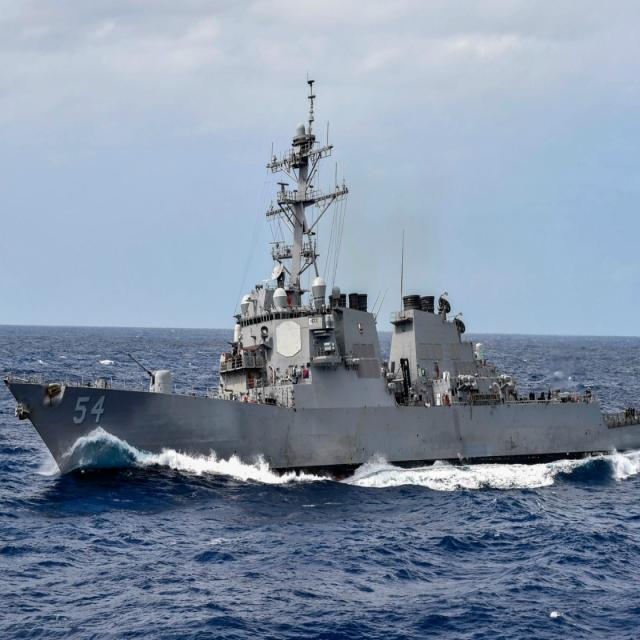navalvessels: (25, 106, 634, 493)
